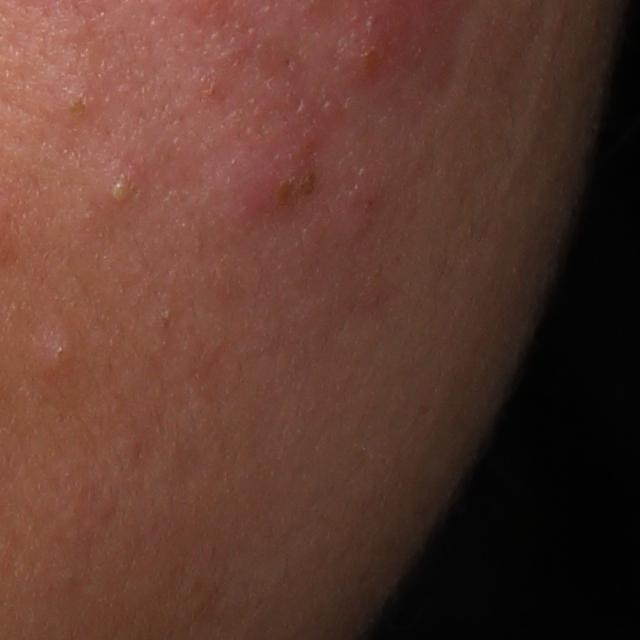pustule: (100, 166, 146, 206)
